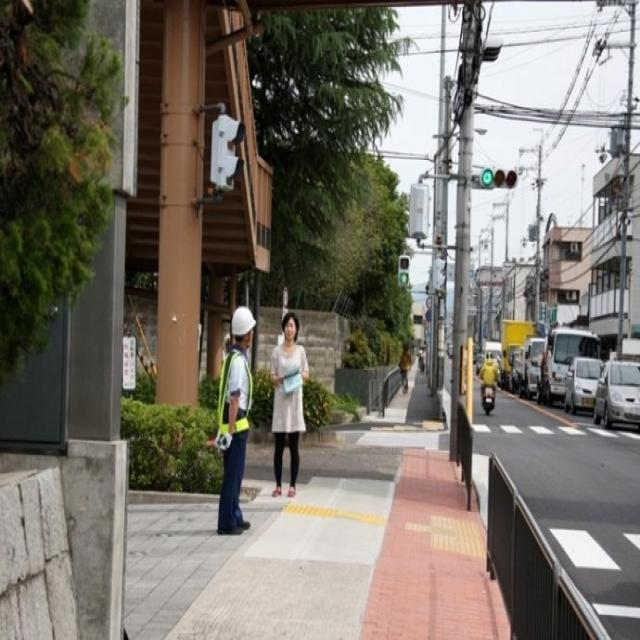Reflective-Jacket: (217, 350, 255, 442)
Safety-Helmet: (230, 304, 257, 336)
